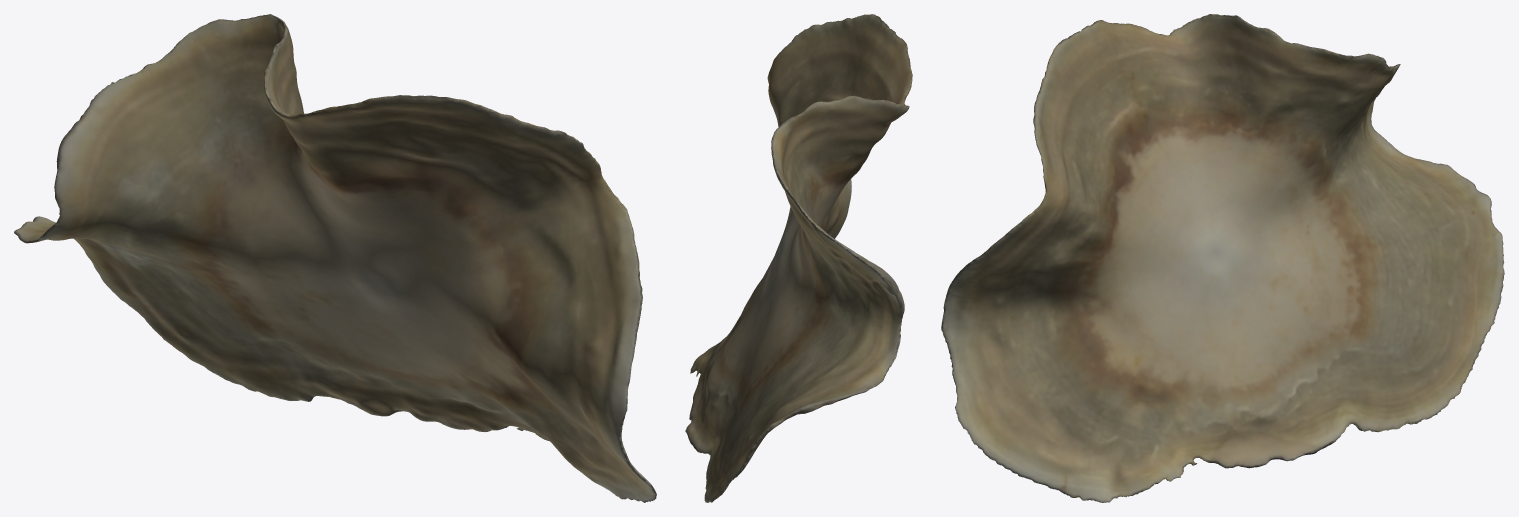
The model's file is cycloclypeus_carpenteri-detail.glb.
The picture shows the model from 3 angles, left to right: view 1: azimuth 30°, elevation 25°; view 2: azimuth 150°, elevation 25°; view 3: azimuth 270°, elevation 25°; orthographic projection. The views are drawn at different scales.
Parts seen in each view (by area): view 1: Object_2; view 2: Object_2; view 3: Object_2.
Boxes of the visible parts, <box> form: Object_2: <box>14,14,656,502</box>; Object_2: <box>685,14,912,502</box>; Object_2: <box>941,14,1504,502</box>.
Size of the model in its own units: 0.3398 by 0.369 by 0.4868.
1 material, 1 textured.
